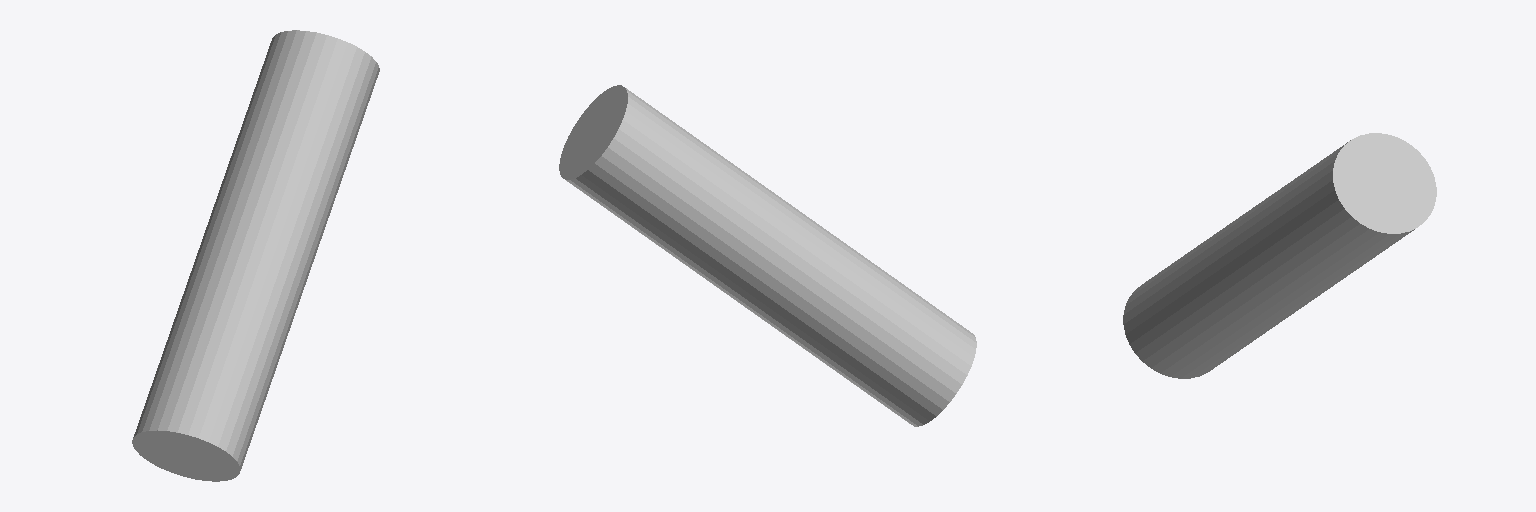
File: mesh_upperleg_l4.obj
3 views of the same model, side by side, from view 1: azimuth 30°, elevation 25°; view 2: azimuth 150°, elevation 25°; view 3: azimuth 270°, elevation 25° (orthographic).
Visible parts, largest first — view 1: Cylinder.015_Cylinder.025; view 2: Cylinder.015_Cylinder.025; view 3: Cylinder.015_Cylinder.025.
Boxes of the visible parts, <box> form: Cylinder.015_Cylinder.025: <box>132,30,379,481</box>; Cylinder.015_Cylinder.025: <box>559,85,976,426</box>; Cylinder.015_Cylinder.025: <box>1123,133,1436,378</box>.
Bounding box in the file's own units: 0.6895 × 0.7015 × 0.5872.